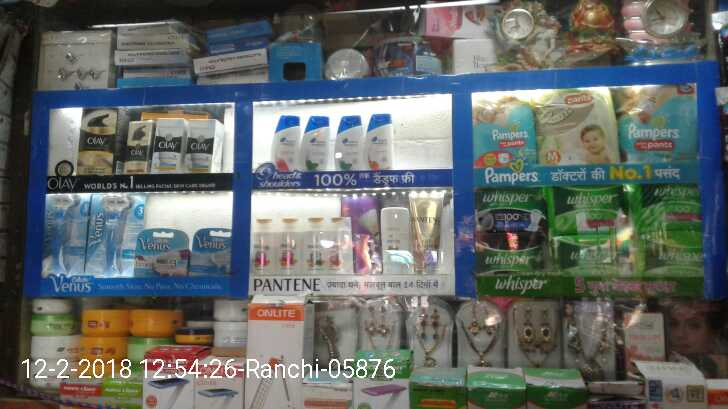venus: (45, 195, 91, 272), (91, 196, 135, 272), (139, 230, 188, 274), (188, 229, 230, 274)
